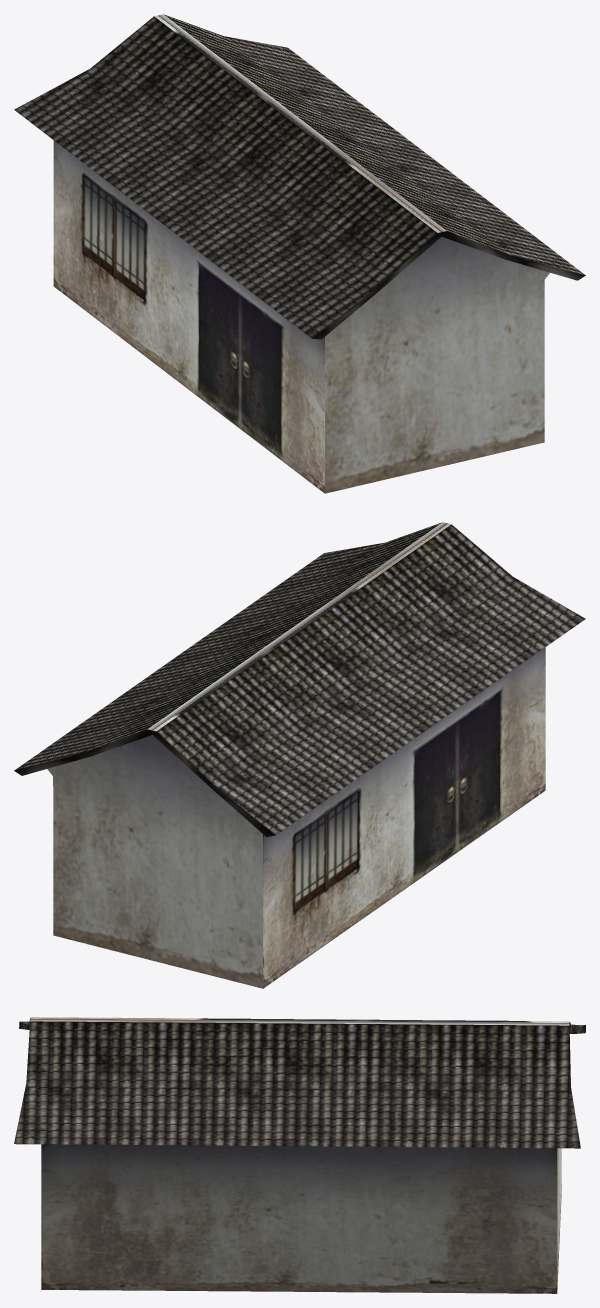
File: ian1620.obj
3 views of the same model, one above another, from view 1: azimuth 30°, elevation 25°; view 2: azimuth 150°, elevation 25°; view 3: azimuth 270°, elevation 25° (orthographic). The views are drawn at different scales.
Visible parts, largest first — view 1: ian1620; view 2: ian1620; view 3: ian1620.
Part boxes in pixels (x1=…): ian1620: x1=14, y1=14, x2=585, y2=493; ian1620: x1=14, y1=522, x2=585, y2=988; ian1620: x1=14, y1=1017, x2=585, y2=1293.
Bounding box in the file's own units: 121 × 99.21 × 232.
